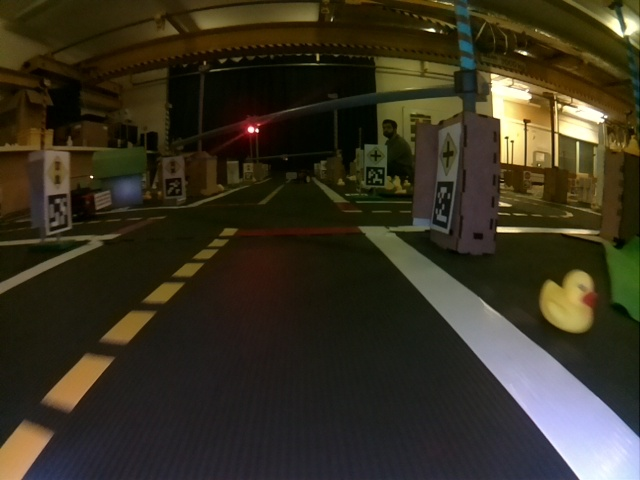Duckie: (539, 269, 597, 334)
Duckiebot: (71, 186, 112, 217)
Intersection sign: (438, 133, 459, 174), (367, 145, 385, 166)
QR code: (434, 180, 455, 230), (47, 193, 70, 232), (164, 178, 183, 197), (365, 167, 385, 185)
Signal sign: (46, 155, 69, 189), (164, 158, 180, 176)
Traffic light: (246, 123, 260, 134)
